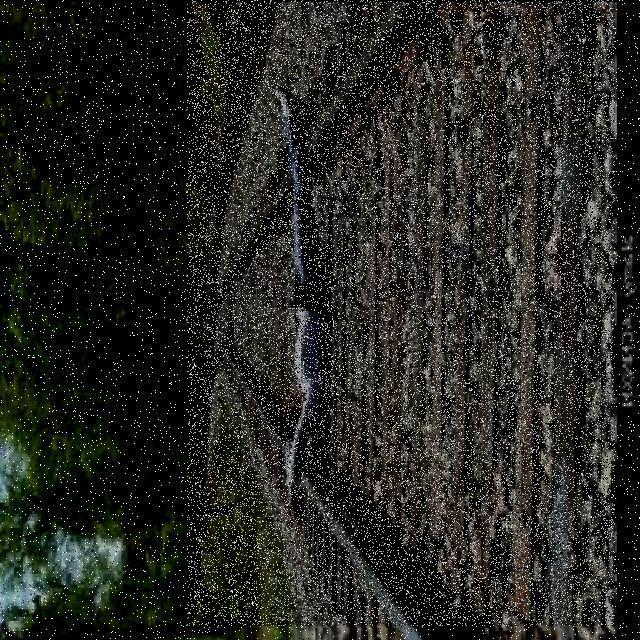rail: (188, 1, 616, 627)
